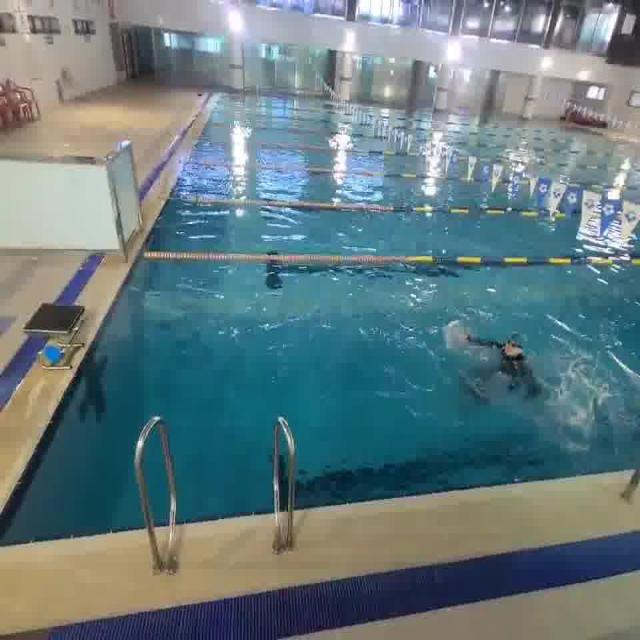Drowning: (436, 299, 558, 432)
